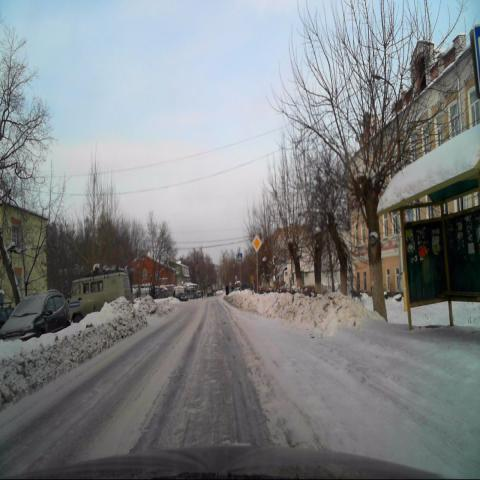2_1: (251, 234, 262, 252)
